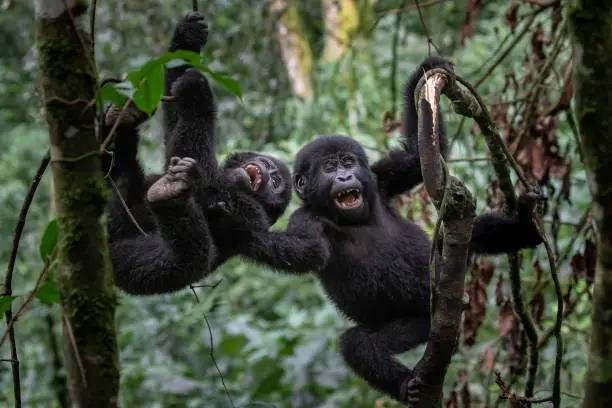goriile_montagne: (274, 110, 480, 400), (82, 39, 294, 300)
